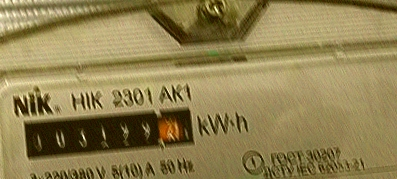0: (56, 127, 68, 147), (33, 130, 43, 148)
1: (100, 121, 110, 140)
3: (78, 126, 89, 146)
6: (166, 124, 177, 139)
9: (121, 118, 132, 139), (143, 119, 154, 137)
screen: (18, 97, 203, 164)
